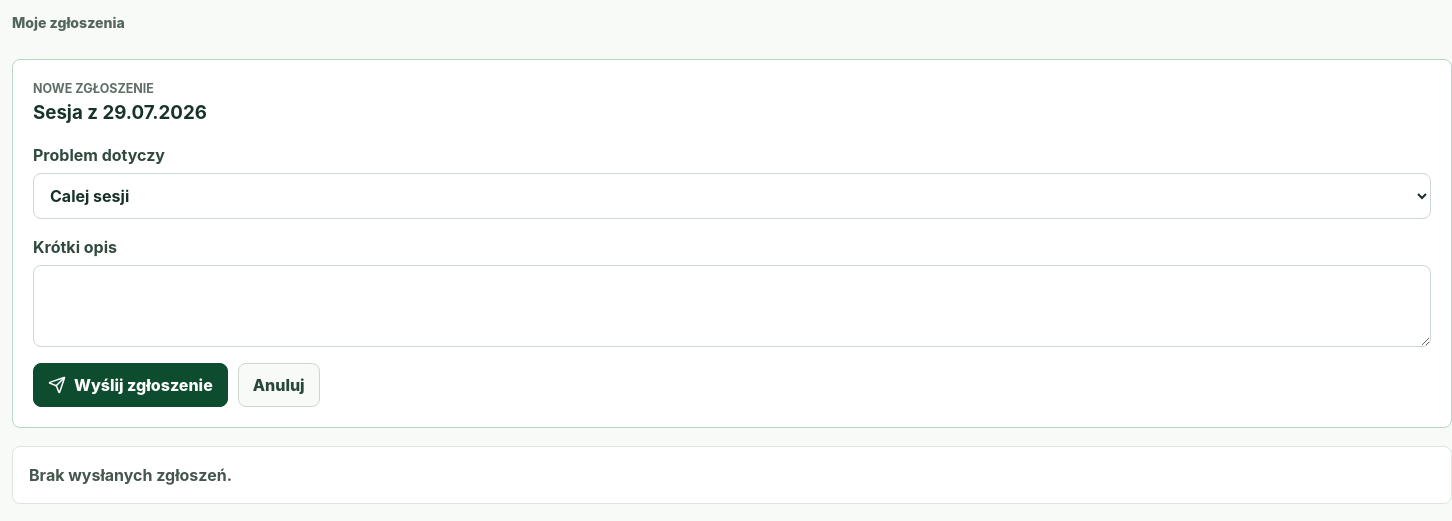
PickerIssueReportsPanel › queues a prepared report offline
Type "Status wyplaty wymaga sprawdzenia." into the text box labelled "Krótki opis" at (732, 306), box [33,265,1431,347]
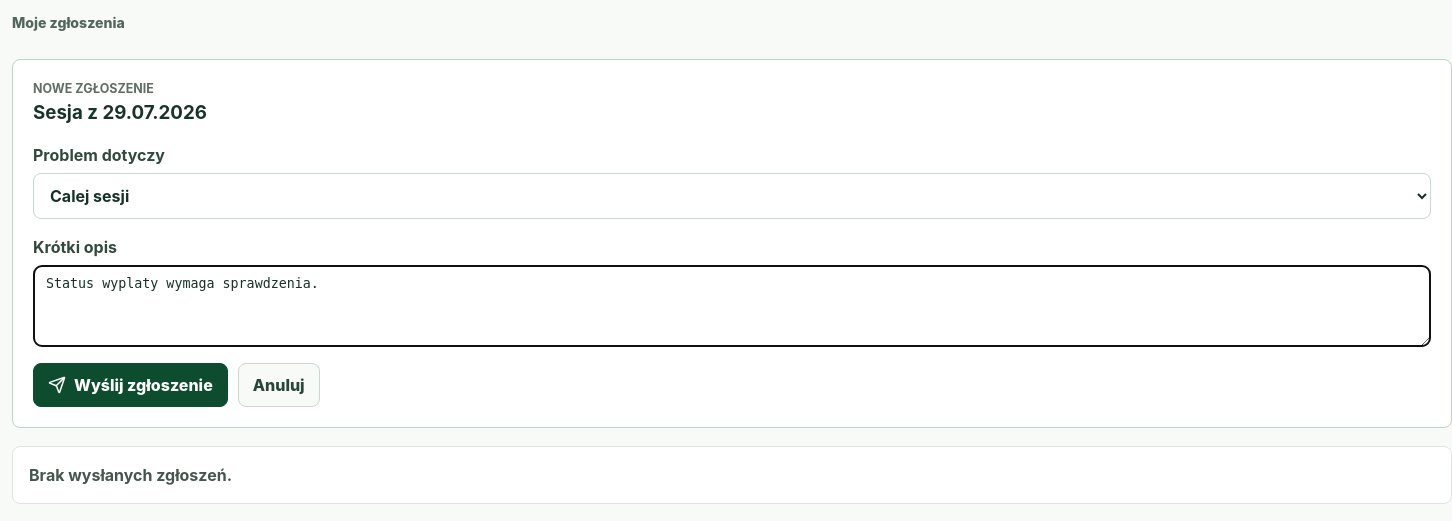
Click the button "Wyślij zgłoszenie" at (130, 385), box [33,363,228,407]
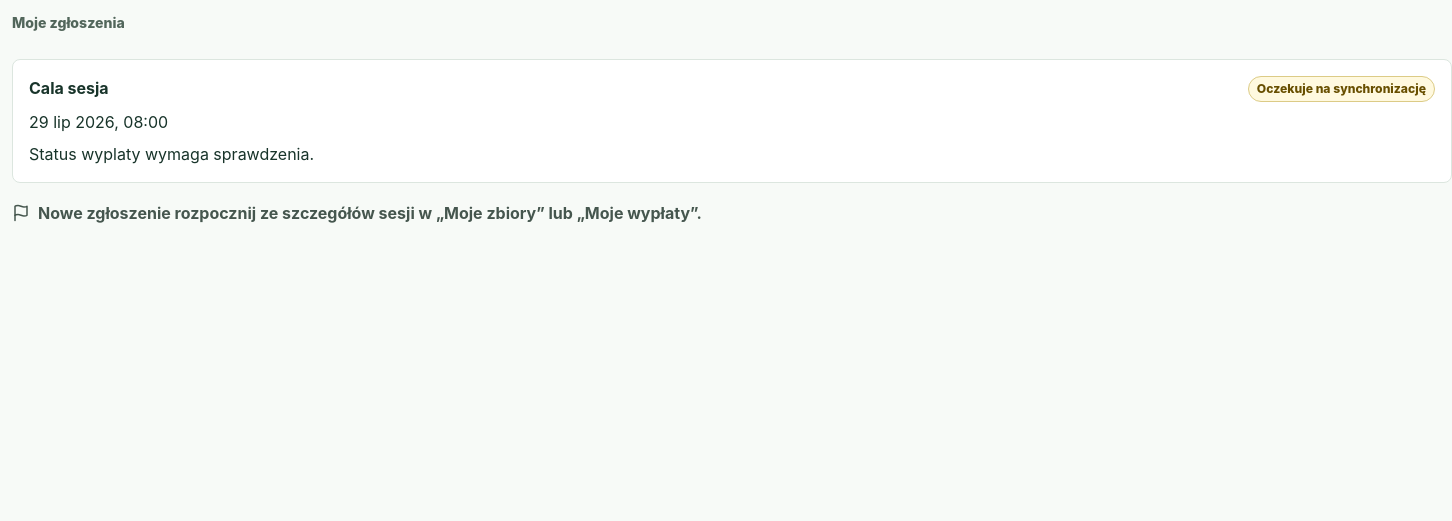
Expected: the text "Oczekuje na synchronizację" is shown, [1248,76,1435,102]
